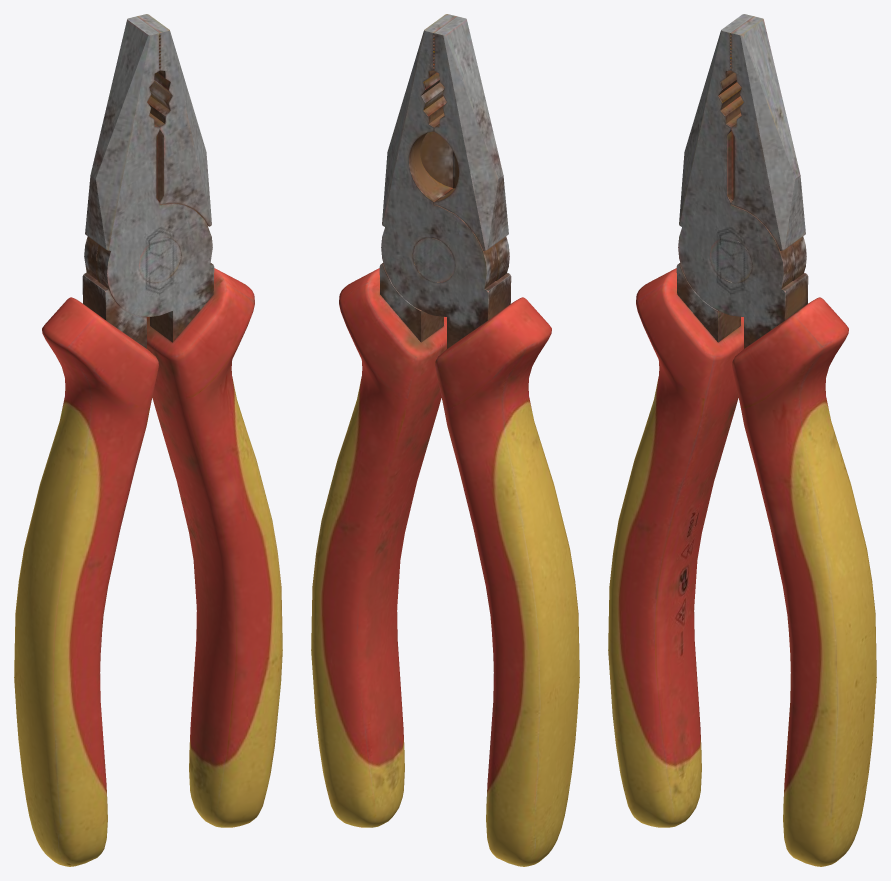
The model's file is pliers.glb.
The picture shows the model from 3 angles, left to right: view 1: azimuth 30°, elevation 25°; view 2: azimuth 150°, elevation 25°; view 3: azimuth 330°, elevation 25°; orthographic projection.
Visible parts, largest first — view 1: pliers; view 2: pliers; view 3: pliers.
Boxes of the visible parts, x1,y1,x2,y2 form: pliers: (14,14,282,866); pliers: (311,14,579,866); pliers: (608,14,876,866).
Bounding box in the file's own units: 0.0553 × 0.1798 × 0.0179.
Materials: 1 (1 with a texture image).
